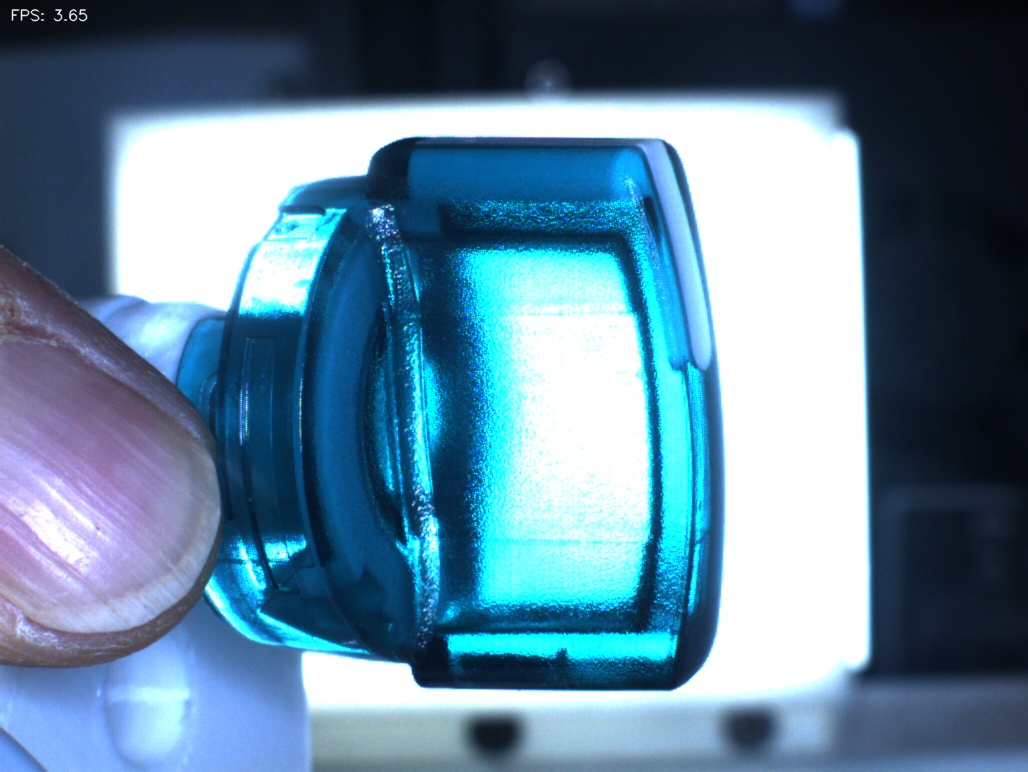Bulle: (524, 631, 610, 720)
